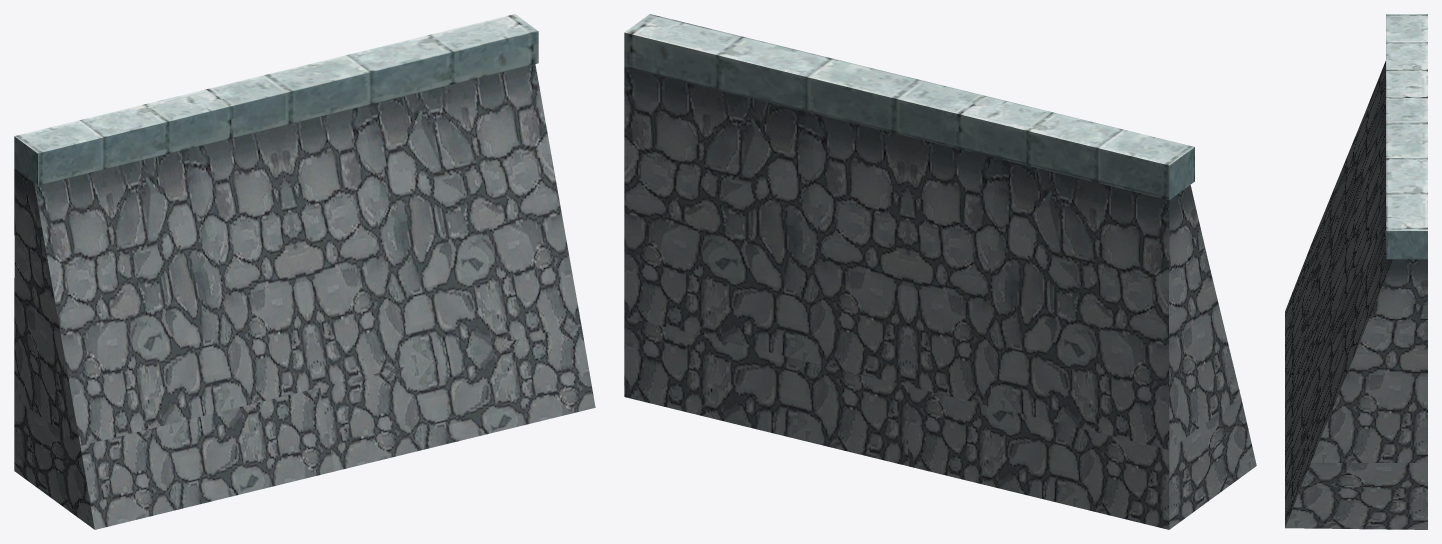
3 views of the same model, side by side, from view 1: azimuth 30°, elevation 25°; view 2: azimuth 150°, elevation 25°; view 3: azimuth 270°, elevation 25° (orthographic). The views are drawn at different scales.
Visible parts, largest first — view 1: geom_node_0; view 2: geom_node_0; view 3: geom_node_0.
Boxes of the visible parts, left/top/right/bottom form: geom_node_0: left=14, top=14, right=595, bottom=529; geom_node_0: left=624, top=14, right=1256, bottom=529; geom_node_0: left=1285, top=14, right=1427, bottom=529.
Size of the model in its own units: 7 by 4.5 by 1.95.
1 material, 1 textured.
